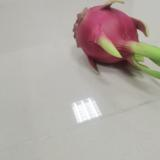pitaya: (74, 5, 154, 76)
